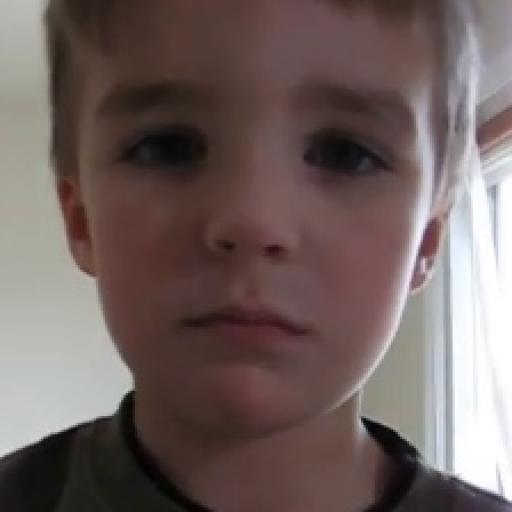Autism: (60, 2, 482, 455)
